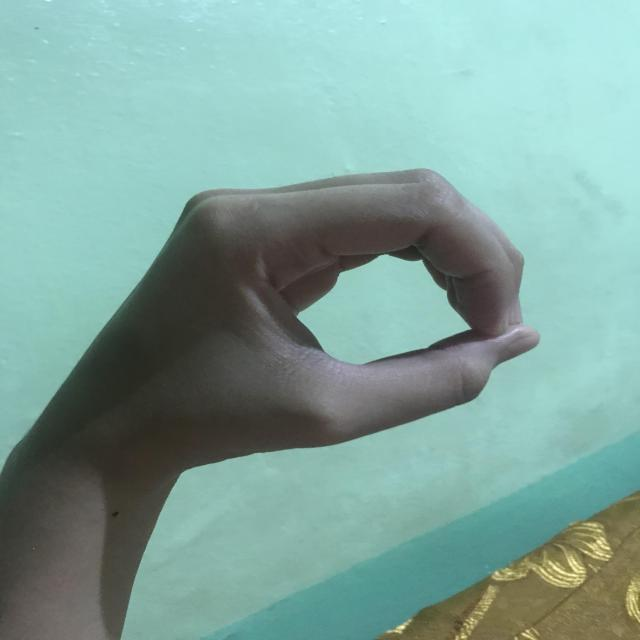O: (115, 165, 543, 464)
